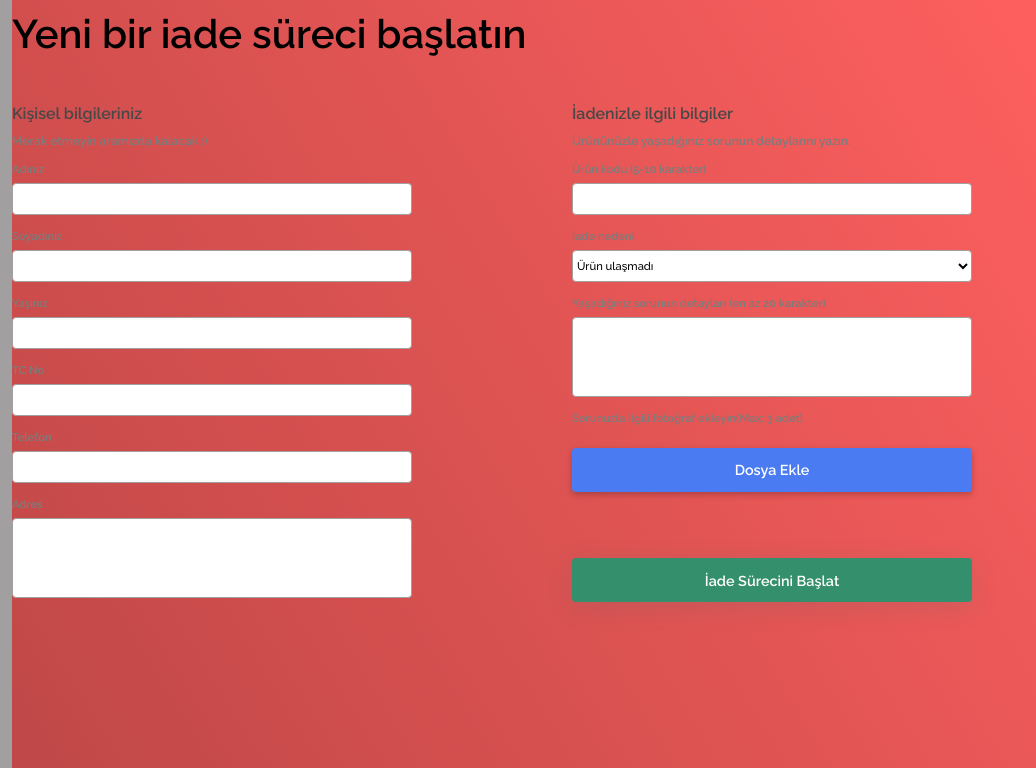
Test: New ticket page form tests › if id number shows length error when input value lenght is lower than 11
The width and height of the screenshot is (1036, 768).
Type "123" into the field labelled "TC No" at (212, 400), box [12,384,412,416]
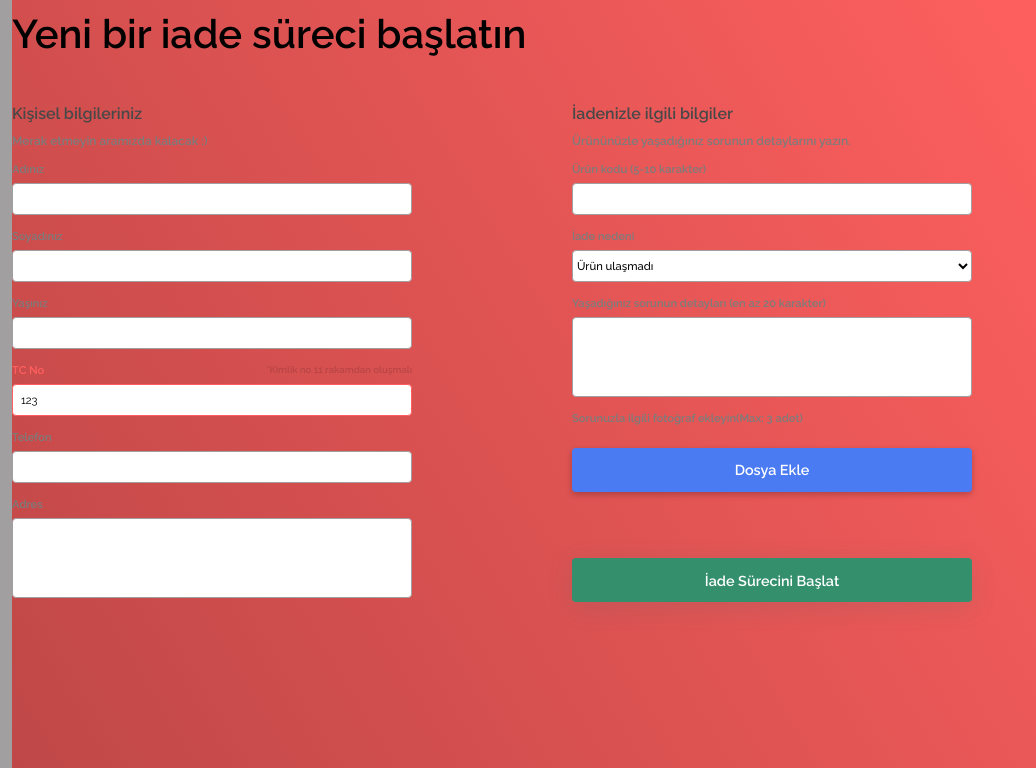
Expected: the message with test id "test-stattext-ticketIdNumber" reads "*Kimlik no 11 rakamdan oluşmalı", [266,364,412,375]
